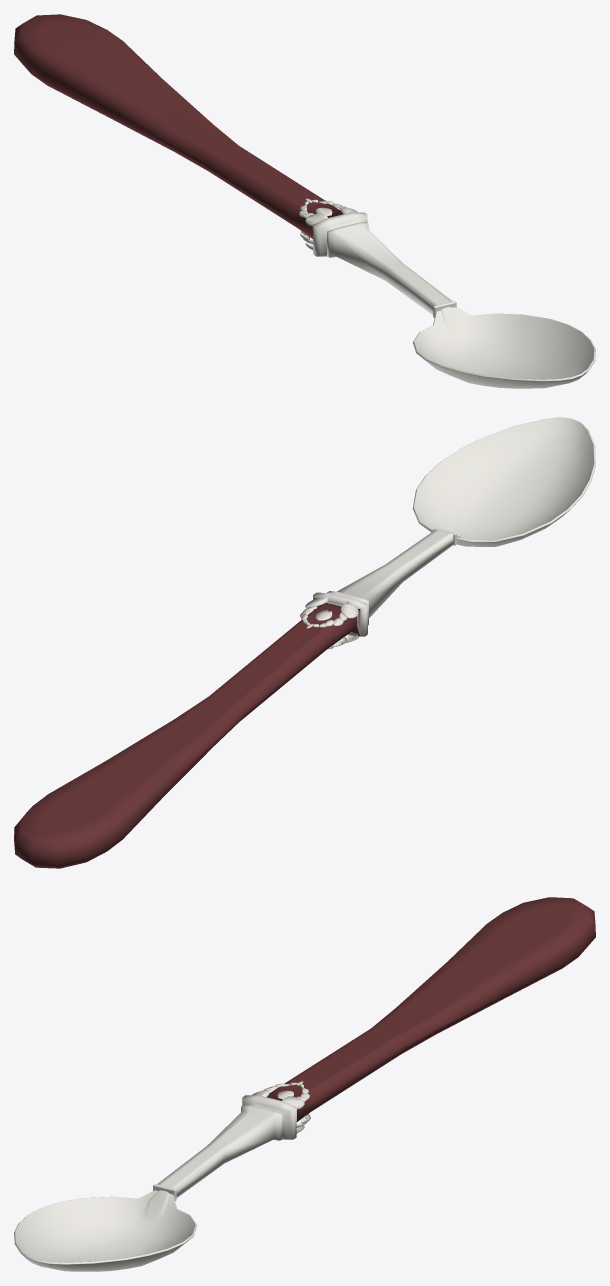
The model's file is spoon.fbx.
3 renders of one model, top to bottom at view 1: azimuth 30°, elevation 25°; view 2: azimuth 150°, elevation 25°; view 3: azimuth 330°, elevation 25°, orthographic.
Visible parts, largest first — view 1: spoon1; view 2: spoon1; view 3: spoon1.
Part boxes in pixels (left/top/right/bottom): spoon1: left=14, top=14, right=595, bottom=388; spoon1: left=14, top=417, right=595, bottom=868; spoon1: left=14, top=897, right=595, bottom=1271.
Size of the model in its own units: 2.9 by 1.1 by 18.96.
